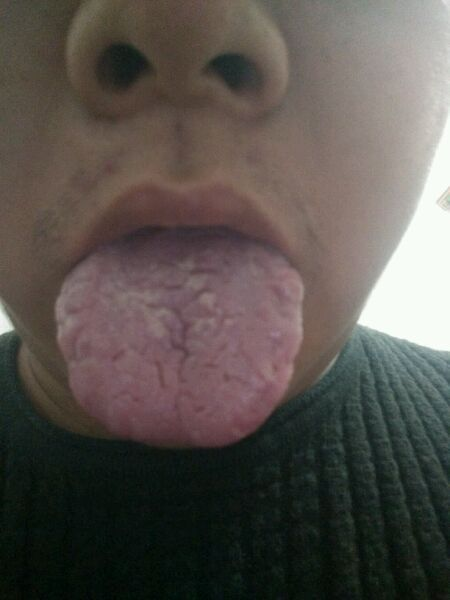baitaishe: (55, 228, 303, 448)
botaishe: (118, 253, 230, 352)
liewenshe: (153, 266, 216, 387)
